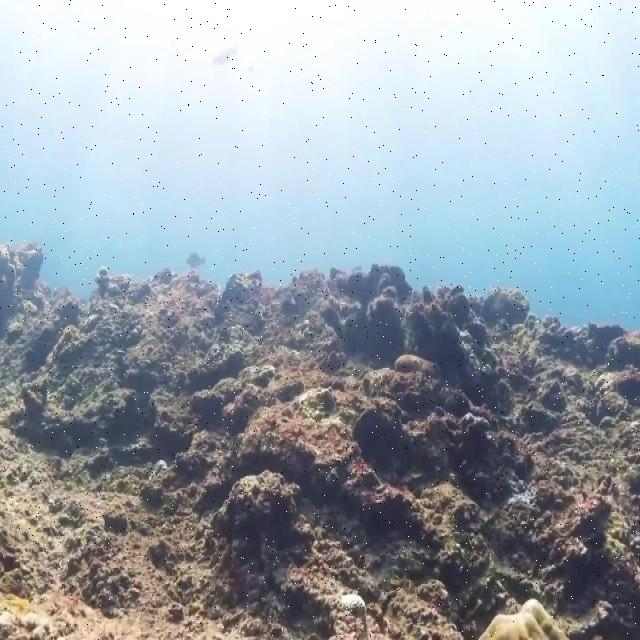fish: (186, 252, 206, 269)
reefs: (478, 600, 569, 639)
sea-floor: (0, 239, 639, 639)
